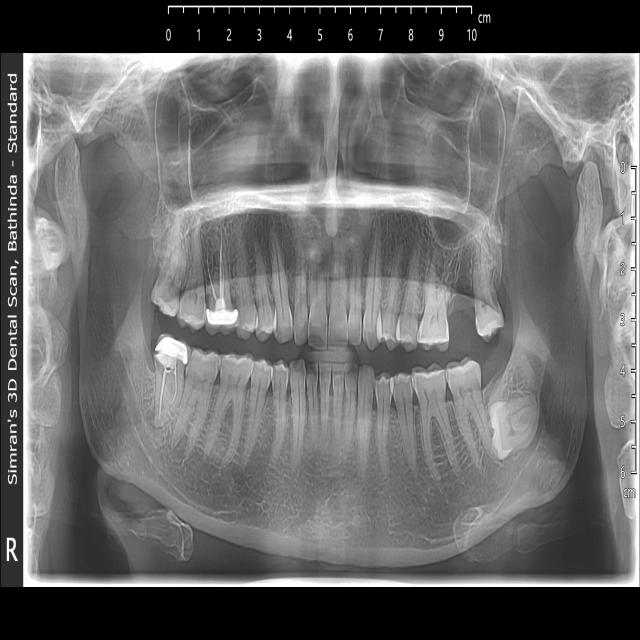Caries: (149, 262, 181, 318), (476, 289, 503, 343)
Filling: (156, 334, 188, 367), (208, 310, 238, 328)
Missing teeth: (450, 273, 474, 332)
Root Canal Treatment: (202, 226, 238, 333), (155, 334, 188, 432)
impacted tooth: (488, 395, 540, 463)
